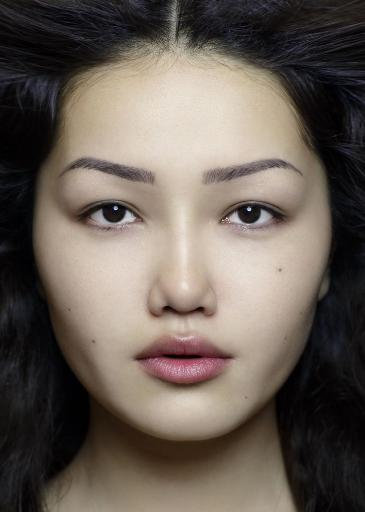left_eye: (218, 200, 290, 237)
left_lip_corner: (223, 346, 243, 369)
right_eye: (77, 200, 146, 236)
right_lip_corner: (130, 349, 148, 373)
